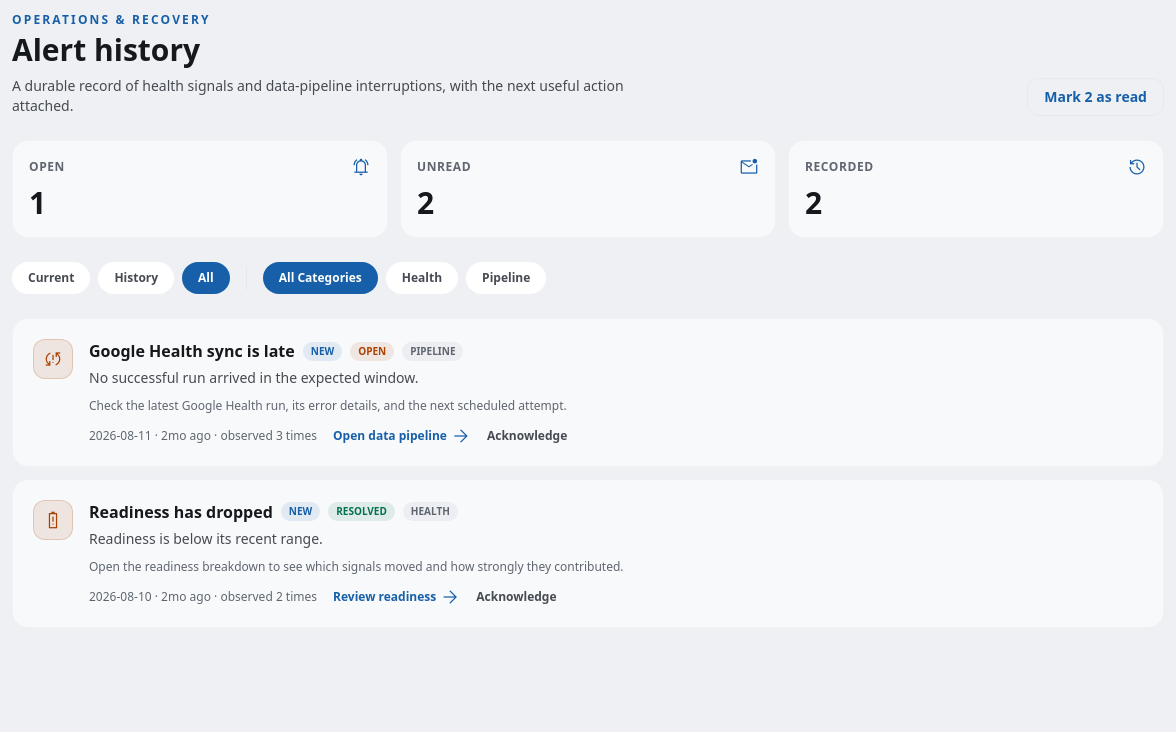
Scenario: Alert history › separates current episodes from resolved history
Expected: the heading "Google Health sync is late" is shown, [89,339,295,363]
Expected: the heading "Readiness has dropped" is shown, [89,500,273,524]
Step 1. Click the button "current" → (51,278), box [12,262,90,294]
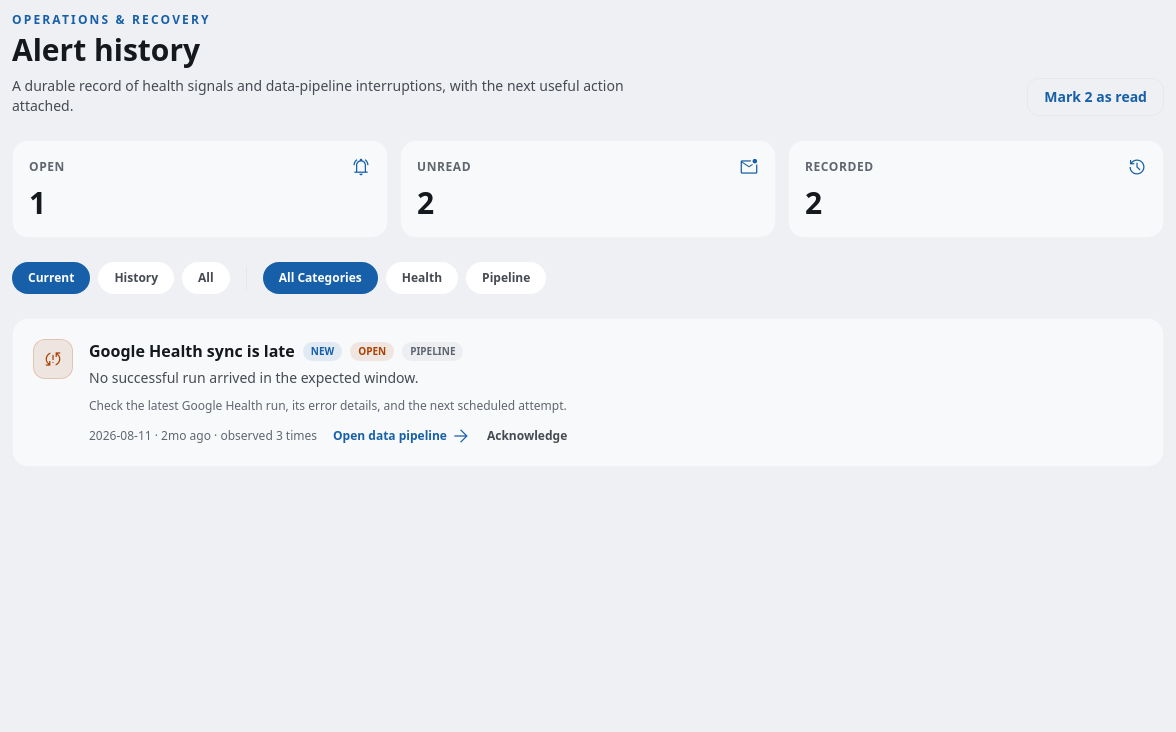
Expected: the heading "Google Health sync is late" is shown, [89,339,295,363]
Now the heading "Readiness has dropped" is gone
Step 2. Click the button "history" → (136,278), box [98,262,174,294]
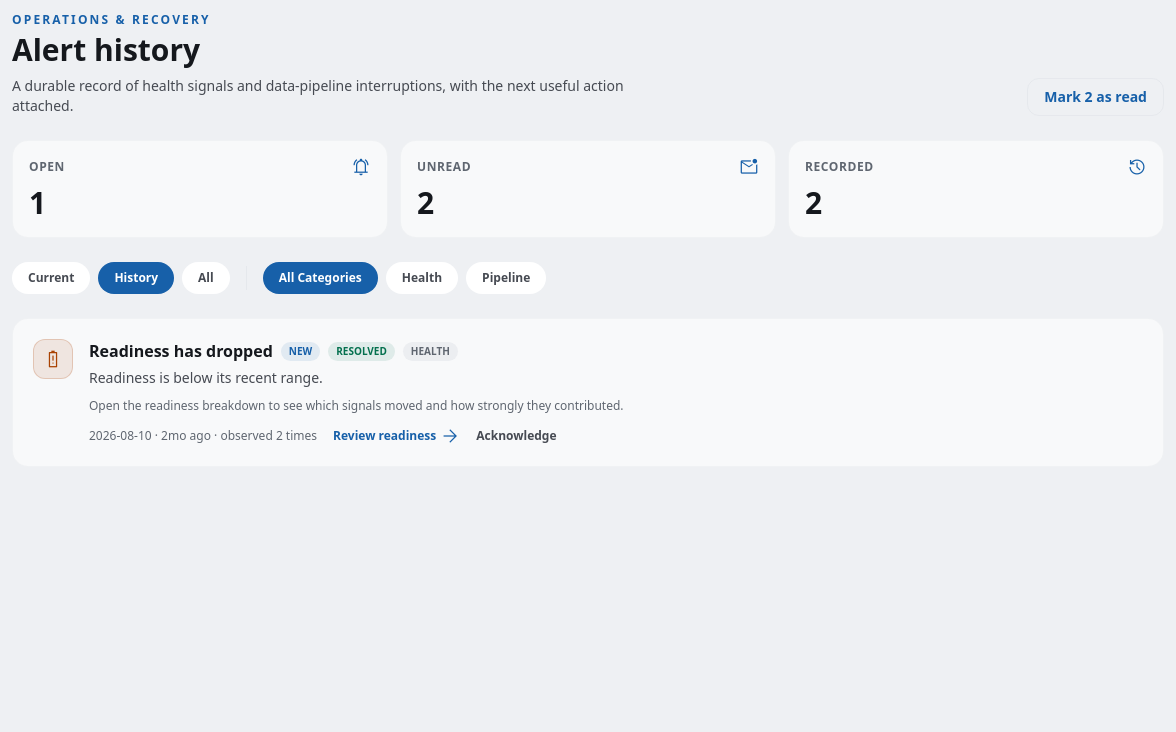
Now the heading "Readiness has dropped" is shown, box [89,339,273,363]
Now the heading "Google Health sync is late" is gone
